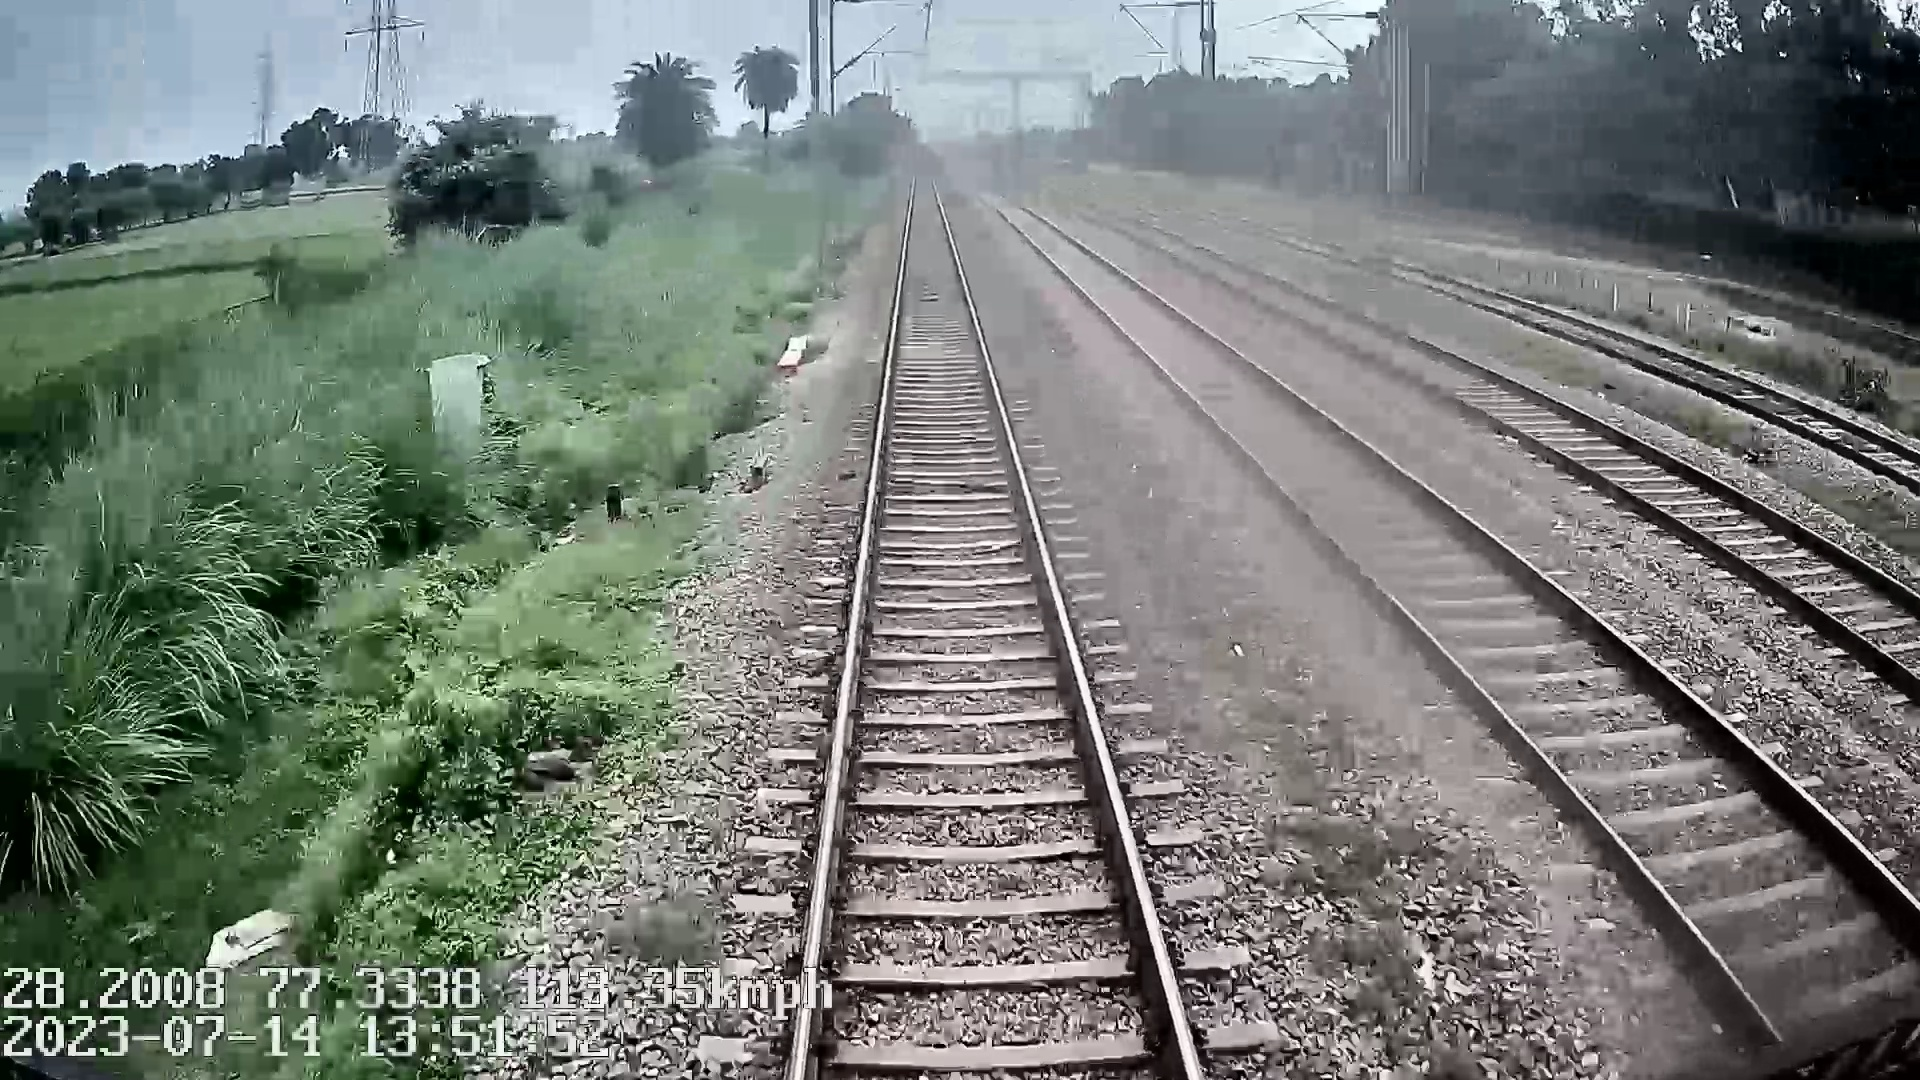track1: (803, 179, 1188, 1056)
track2: (993, 206, 1911, 1031)
track3: (1112, 223, 1912, 666)
track4: (1352, 255, 1915, 481)
